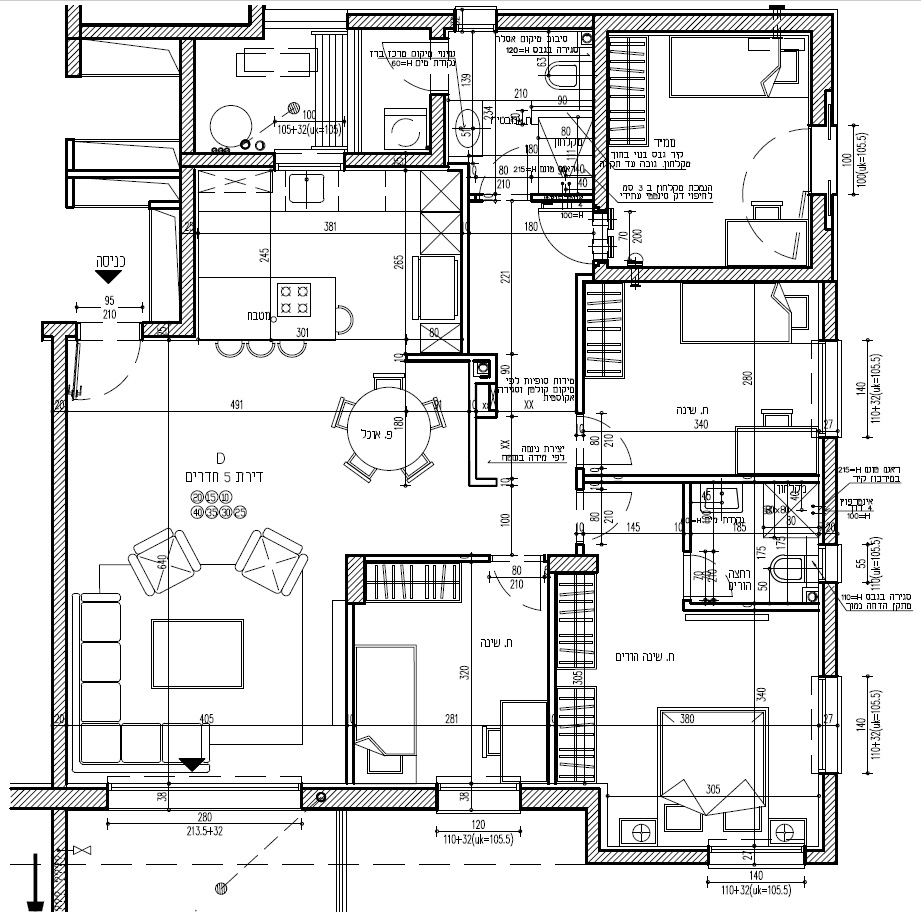door: (587, 410, 641, 473), (491, 563, 545, 626)
wall: (51, 323, 69, 791), (594, 14, 831, 31), (594, 267, 831, 281), (81, 23, 265, 39), (302, 788, 435, 810), (593, 31, 608, 211), (587, 848, 707, 865), (522, 788, 602, 812), (180, 38, 195, 152), (497, 13, 593, 28)
window: (817, 340, 842, 438), (816, 676, 841, 773), (708, 847, 805, 868), (274, 148, 344, 171), (816, 545, 841, 583)
